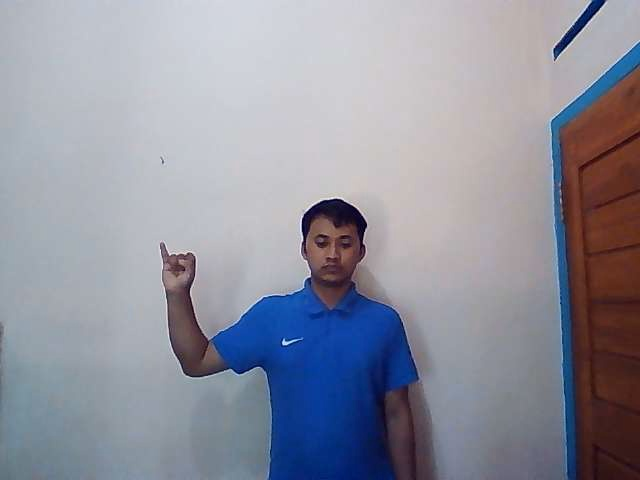I: (159, 240, 198, 290)
